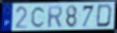2: (15, 5, 29, 29)
7: (81, 5, 96, 28)
8: (65, 5, 78, 29)
C: (30, 6, 46, 29)
D: (96, 4, 114, 28)
R: (47, 5, 64, 29)
